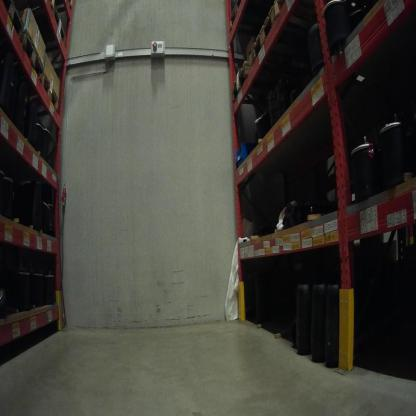pallet: (253, 1, 341, 71), (231, 59, 296, 115), (6, 73, 61, 116), (28, 9, 68, 47), (227, 2, 267, 38), (0, 2, 31, 42), (23, 31, 45, 77), (273, 3, 319, 17), (32, 0, 58, 8)
